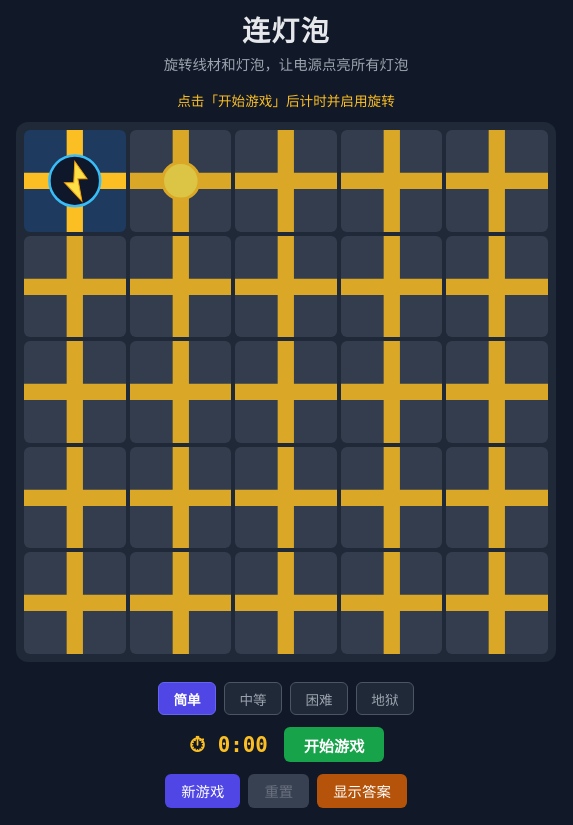
Test: App - 开始与计时 › 点击开始后启用格子
The image size is (573, 825).
Click the button "开始游戏": click(334, 745) [284,727,384,762]
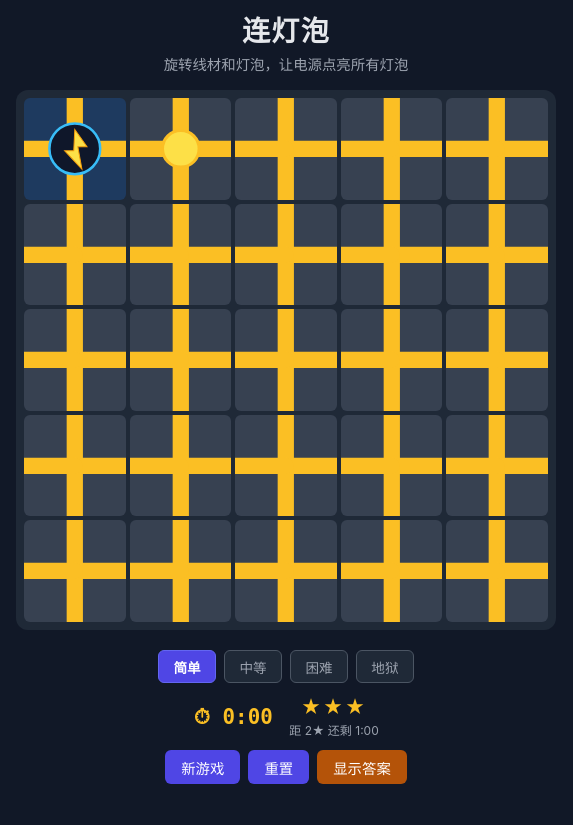
Now the button named "第 1 行第 2 列，灯泡，已通电" is enabled, box [130,98,231,200]
Now the button named "第 1 行第 3 列，直线，已通电" is enabled, box [235,98,337,200]
Now the button named "第 1 行第 4 列，直线，已通电" is enabled, box [341,98,442,200]
